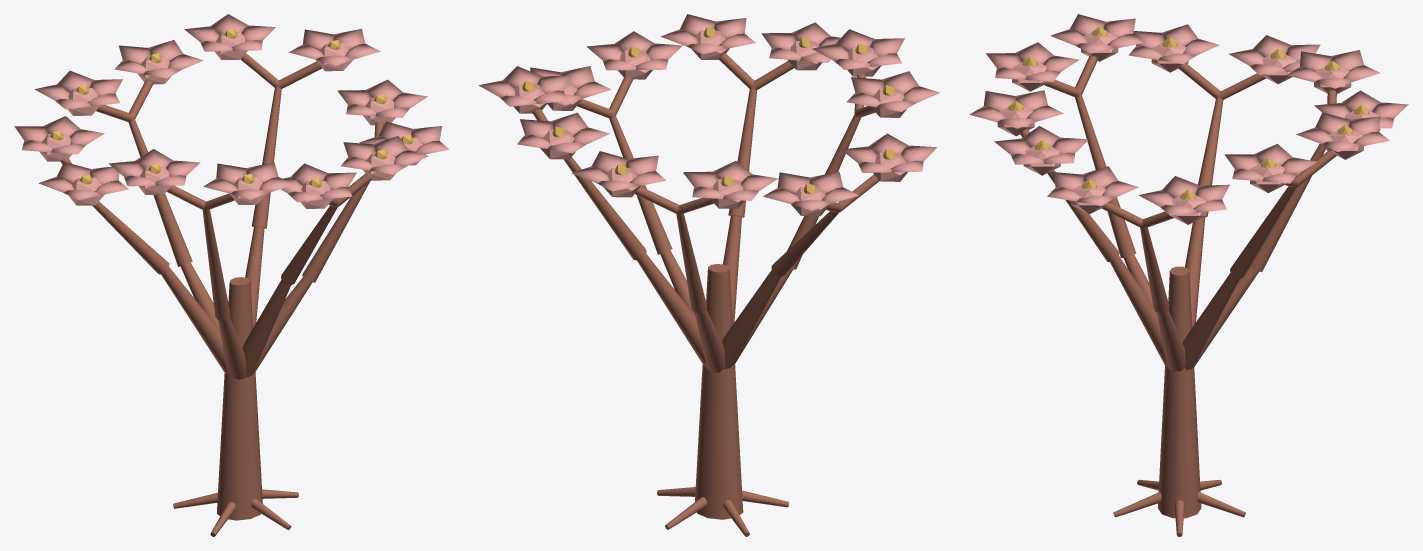
The model's file is coral-tree.glb.
3 renders of one model, left to right at view 1: azimuth 30°, elevation 25°; view 2: azimuth 150°, elevation 25°; view 3: azimuth 270°, elevation 25°, orthographic. The views are drawn at different scales.
Visible parts, largest first — view 1: Vesper / coral-tree; view 2: Vesper / coral-tree; view 3: Vesper / coral-tree.
Part boxes in pixels (box(x1,y1,x2,y2)): Vesper / coral-tree: box(14, 14, 449, 536); Vesper / coral-tree: box(479, 14, 939, 536); Vesper / coral-tree: box(969, 14, 1408, 536).
Bounding box in the file's own units: 7.29 × 7.4 × 7.06.
